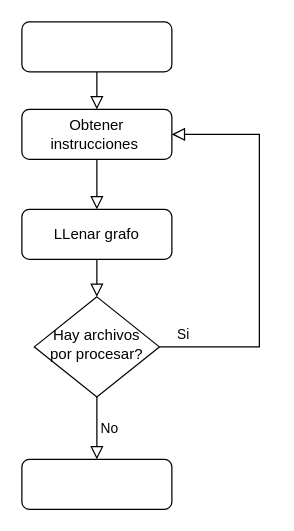
The diagram is 294 pixels wide and 531 high, and some of its shapes have lost their labels. Here are the shapes that lost their labels. From the top down, the box of each, then its label:
(21, 21, 172, 72): Correr
(21, 458, 172, 509): Imprimir resultados
